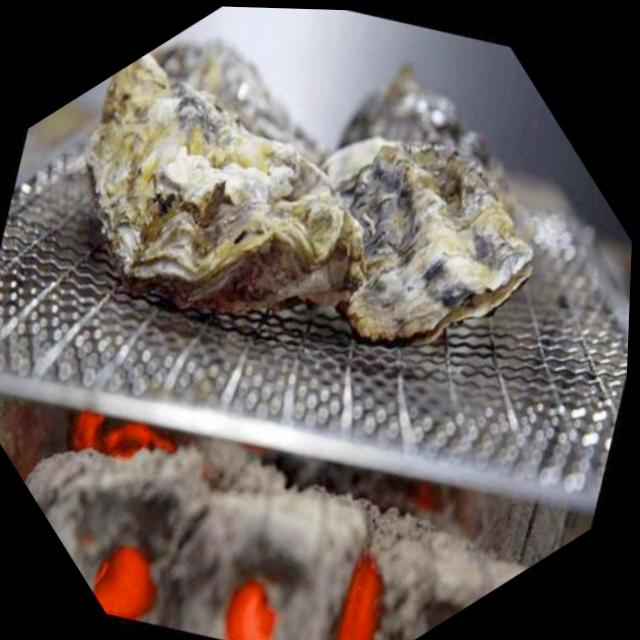Oyster-Closed: (26, 3, 378, 368), (270, 101, 557, 388)
